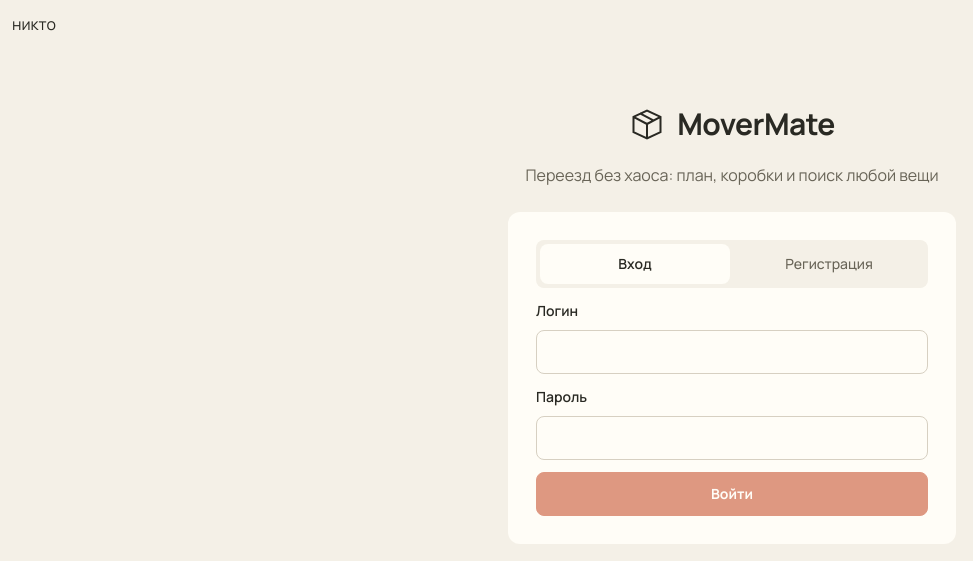
Scenario: вход и регистрация › вход отправляет логин без пробелов и запоминает пользователя
The width and height of the screenshot is (973, 561).
Check: the text with test id "who" reads "никто", box [12,13,56,35]
In the field labelled "Логин": {"x": 732, "y": 352} [536,330,928,374], type " anna "
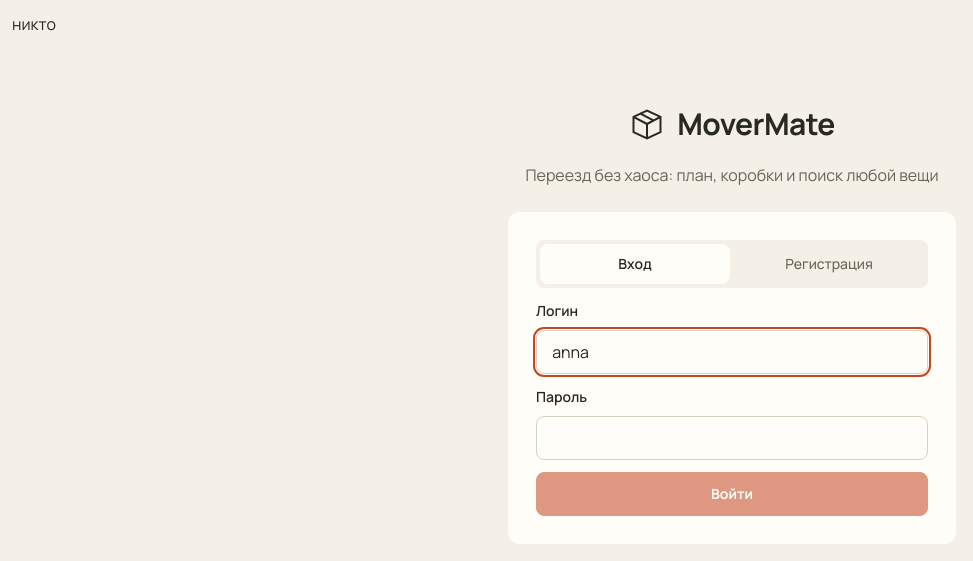
In the password field labelled "Пароль": {"x": 732, "y": 438} [536,416,928,460], type "секрет-секрет"
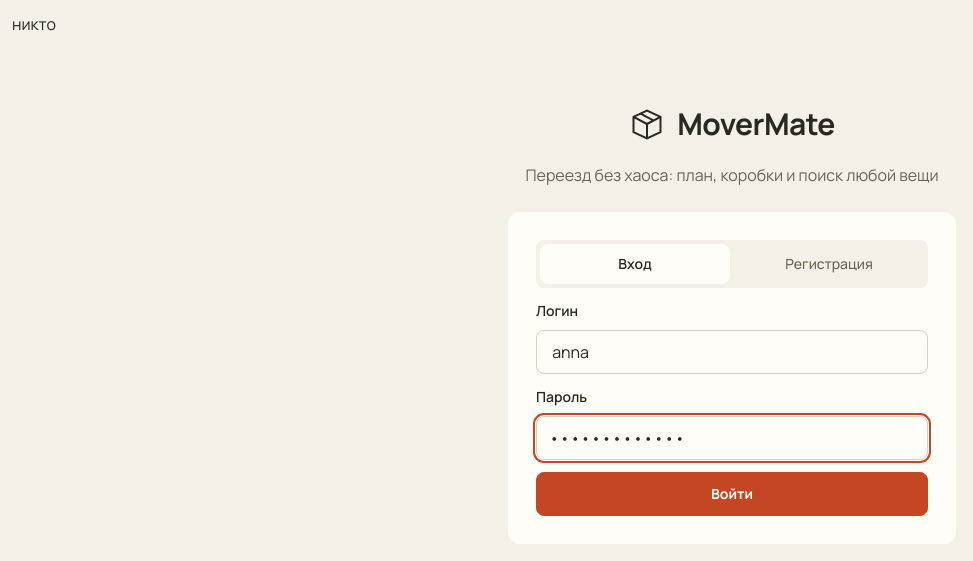
Click the button "Войти": {"x": 732, "y": 494} [536,472,928,516]
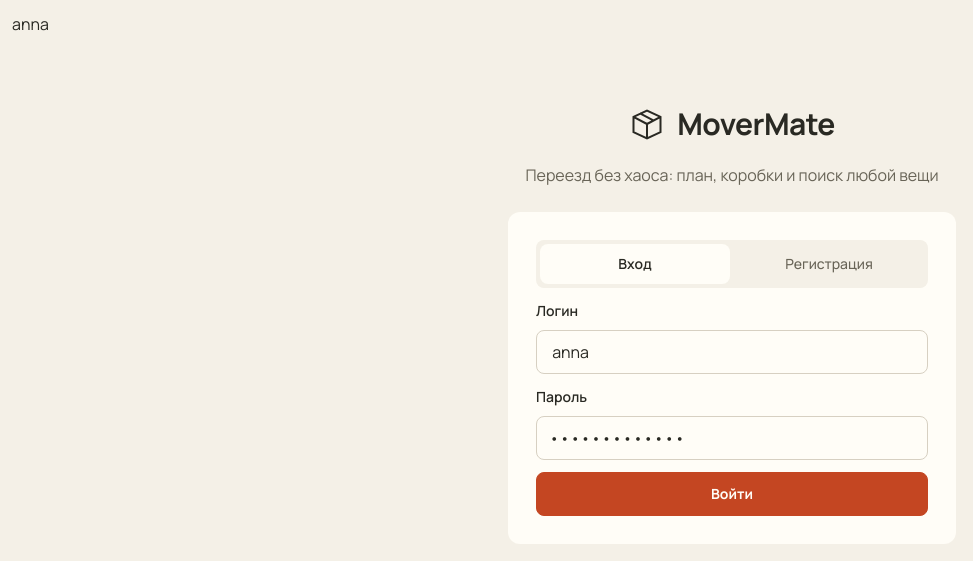
Check: the text with test id "who" reads "anna", box [12,13,49,35]
